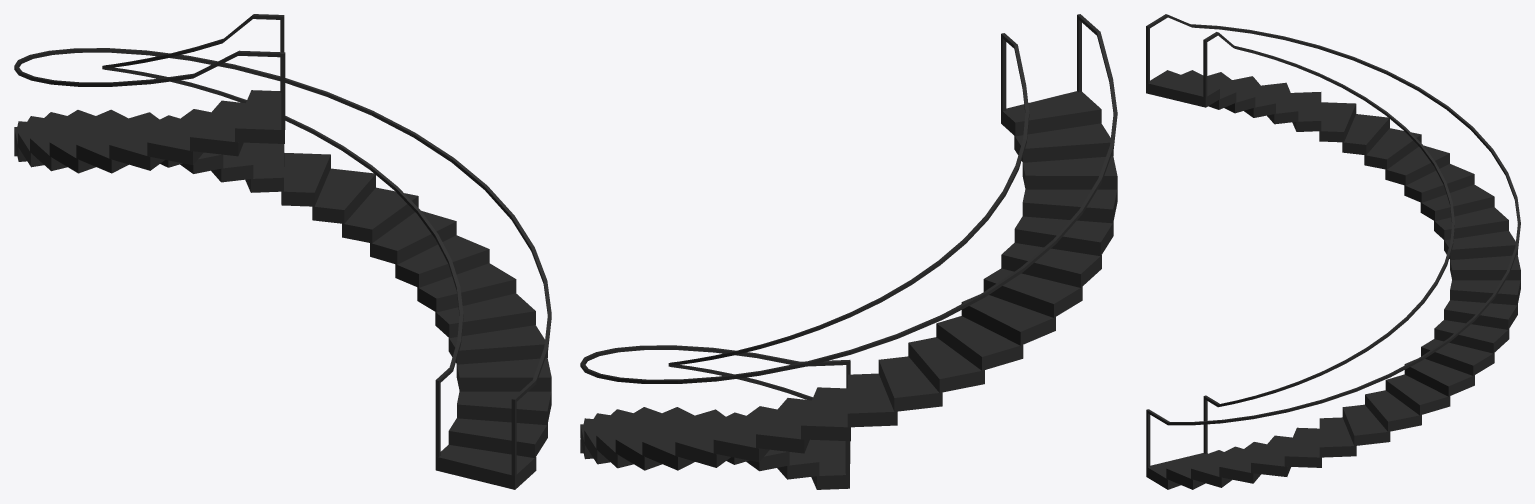
Rendered from G 5 - Black.glb.
3 renders of one model, left to right at view 1: azimuth 30°, elevation 25°; view 2: azimuth 150°, elevation 25°; view 3: azimuth 270°, elevation 25°, orthographic. The views are drawn at different scales.
Parts seen in each view (by area): view 1: G-5-Stairs; view 2: G-5-Stairs; view 3: G-5-Stairs.
Boxes of the visible parts, x1,y1,x2,y2 form: G-5-Stairs: (14, 14, 551, 489); G-5-Stairs: (580, 14, 1117, 489); G-5-Stairs: (1146, 14, 1520, 489).
Size of what is drawn, in the model's own units: 7.03 by 7.1 by 6.57.
1 material, 1 textured.
